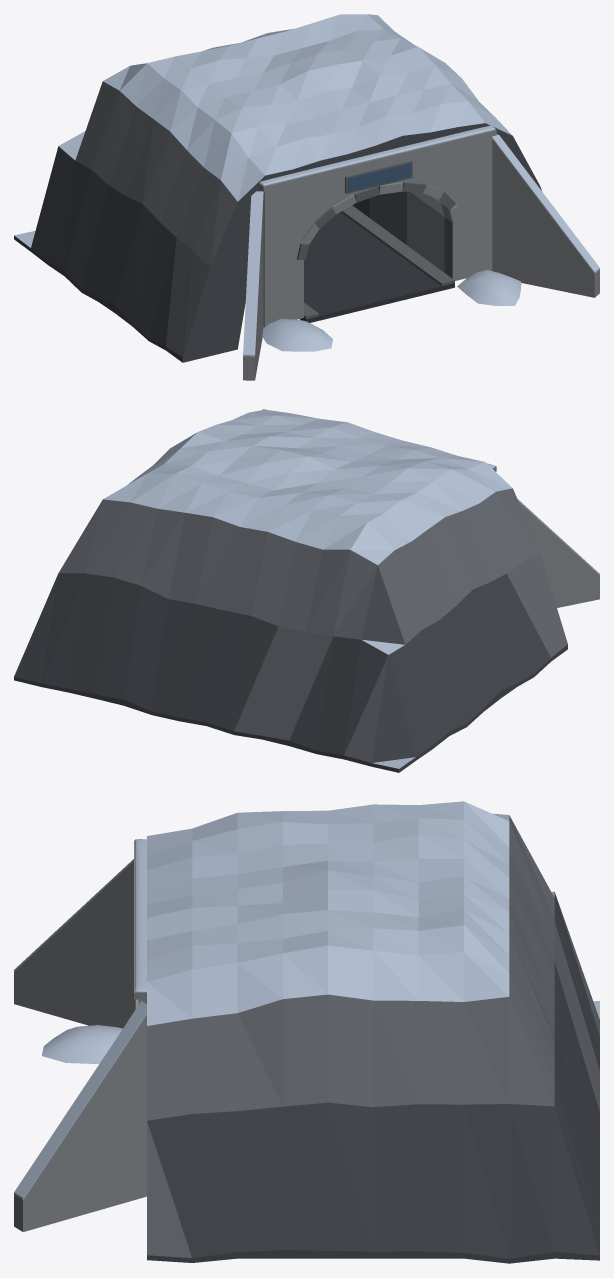
Rendered from tunnel_portal.glb.
3 renders of one model, top to bottom at view 1: azimuth 30°, elevation 25°; view 2: azimuth 150°, elevation 25°; view 3: azimuth 270°, elevation 25°, orthographic. The views are drawn at different scales.
Visible parts, largest first — view 1: Portal, Panel; view 2: Portal; view 3: Portal.
Boxes of the visible parts, x1,y1,x2,y2 form: Portal: (14, 14, 599, 380); Panel: (348, 163, 411, 192); Portal: (14, 409, 599, 772); Portal: (14, 801, 599, 1263).
Size of what is drawn, in the model's own units: 22 by 10.88 by 21.6.
